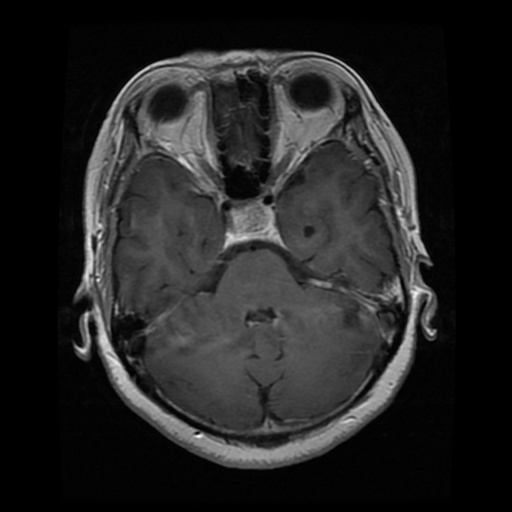pituitary: (230, 198, 277, 241)
